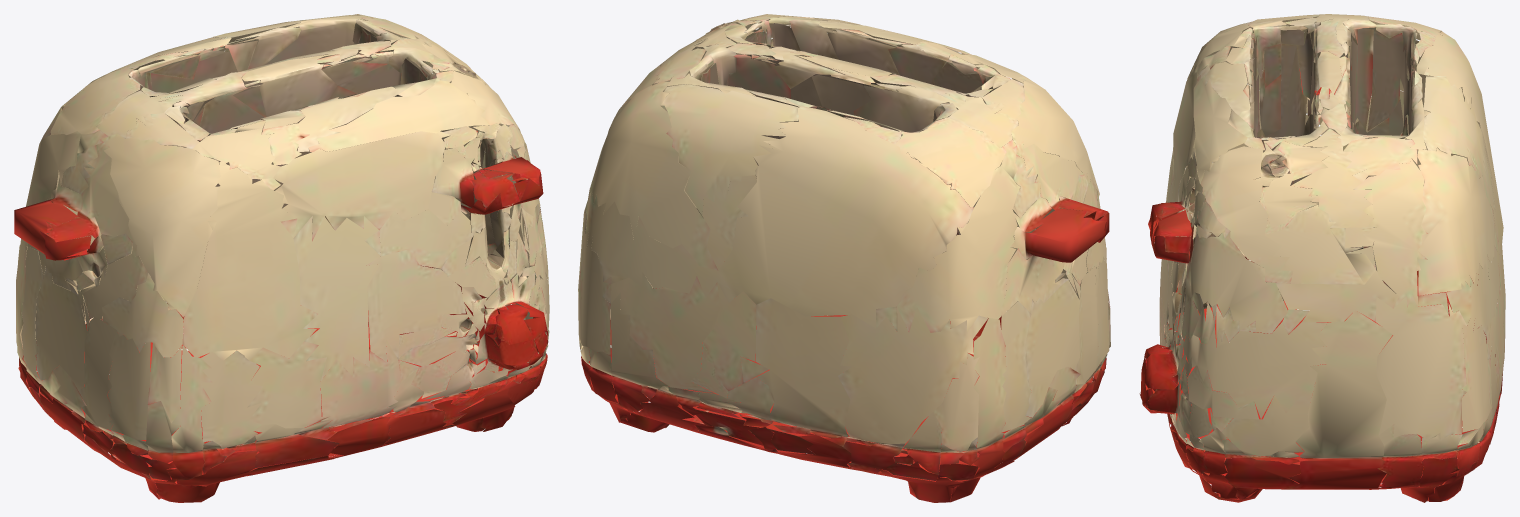
File: toaster.glb
3 views of the same model, side by side, from view 1: azimuth 30°, elevation 25°; view 2: azimuth 150°, elevation 25°; view 3: azimuth 270°, elevation 25° (orthographic).
Parts seen in each view (by area): view 1: toaster; view 2: toaster; view 3: toaster.
Boxes of the visible parts, box(x1,y1,x2,y2) form: toaster: box(14, 14, 549, 502); toaster: box(578, 14, 1110, 502); toaster: box(1139, 14, 1505, 502).
Size of the model in its own units: 0.1781 by 0.13 by 0.1231.
Materials: 1 (1 with a texture image).
